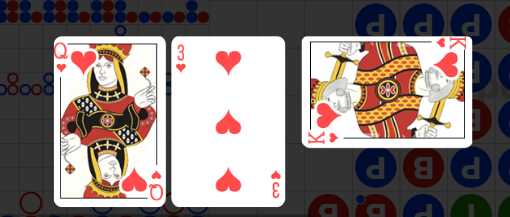3H: (175, 44, 188, 75)
KH: (434, 37, 468, 50)
